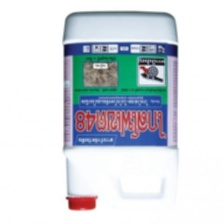insecticide: (56, 9, 190, 218)
